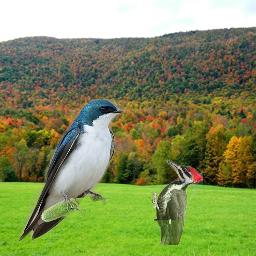Swallow: (18, 99, 125, 243)
Woodpecker: (151, 159, 203, 245)
